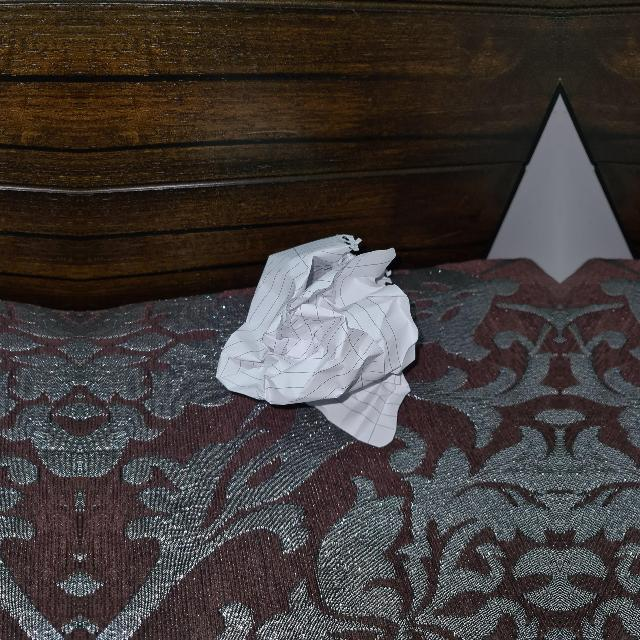paper: (223, 233, 422, 444)
